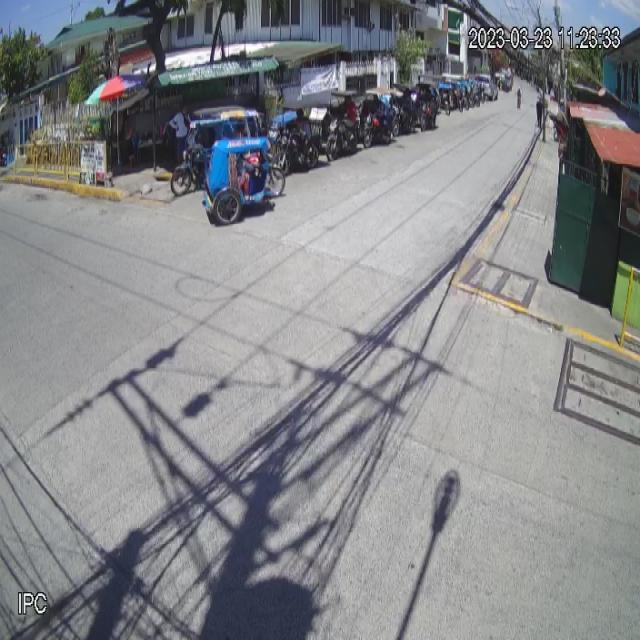Tricycle: (188, 116, 286, 226)
